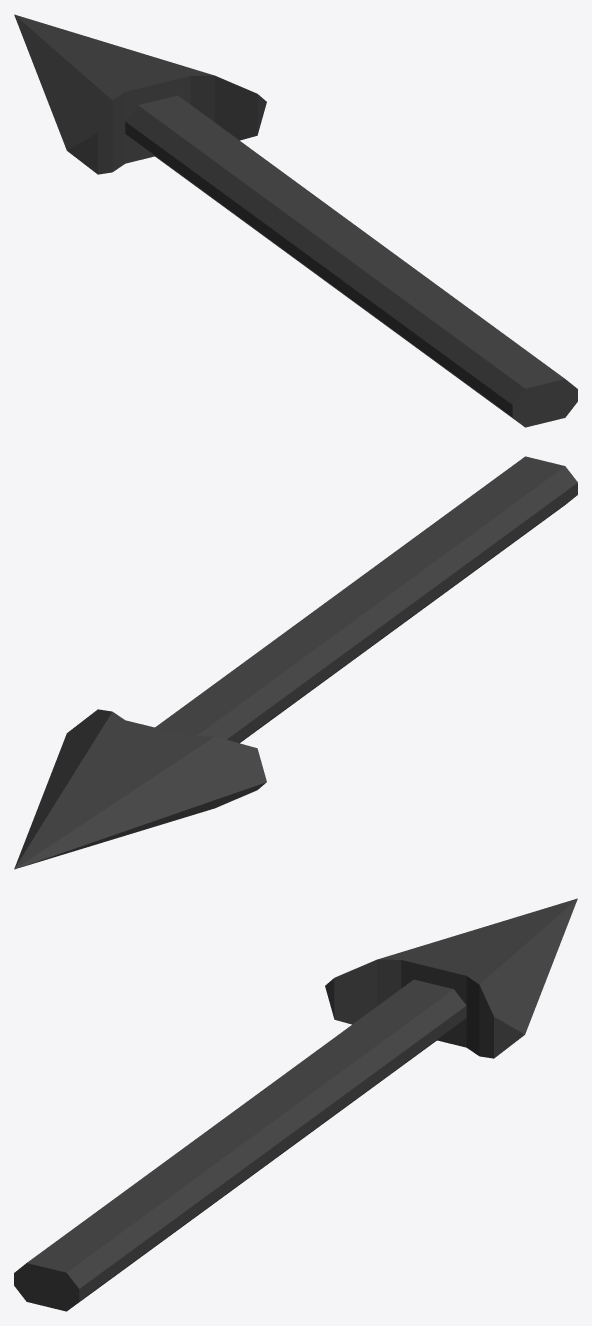
Rendered from indicator.fbx.
3 views of the same model, one above another, from view 1: azimuth 30°, elevation 25°; view 2: azimuth 150°, elevation 25°; view 3: azimuth 330°, elevation 25° (orthographic).
Visible parts, largest first — view 1: Cube; view 2: Cube; view 3: Cube.
Boxes of the visible parts, x1,y1,x2,y2 form: Cube: (14, 14, 577, 427); Cube: (14, 456, 577, 869); Cube: (14, 898, 577, 1311).
Bounding box in the file's own units: 59.67 × 20.46 × 274.
